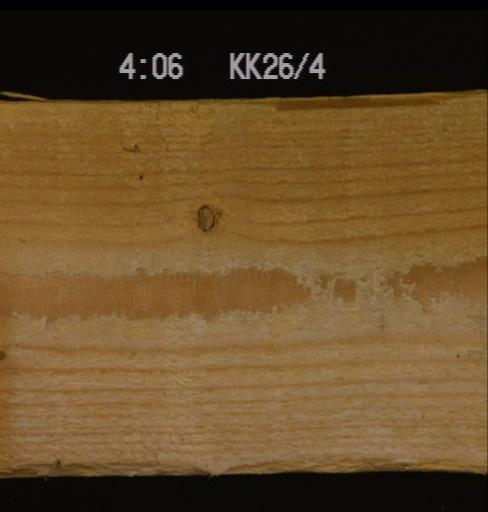dry_knot: (192, 201, 216, 230)
wave: (0, 440, 486, 475), (264, 90, 486, 115)
